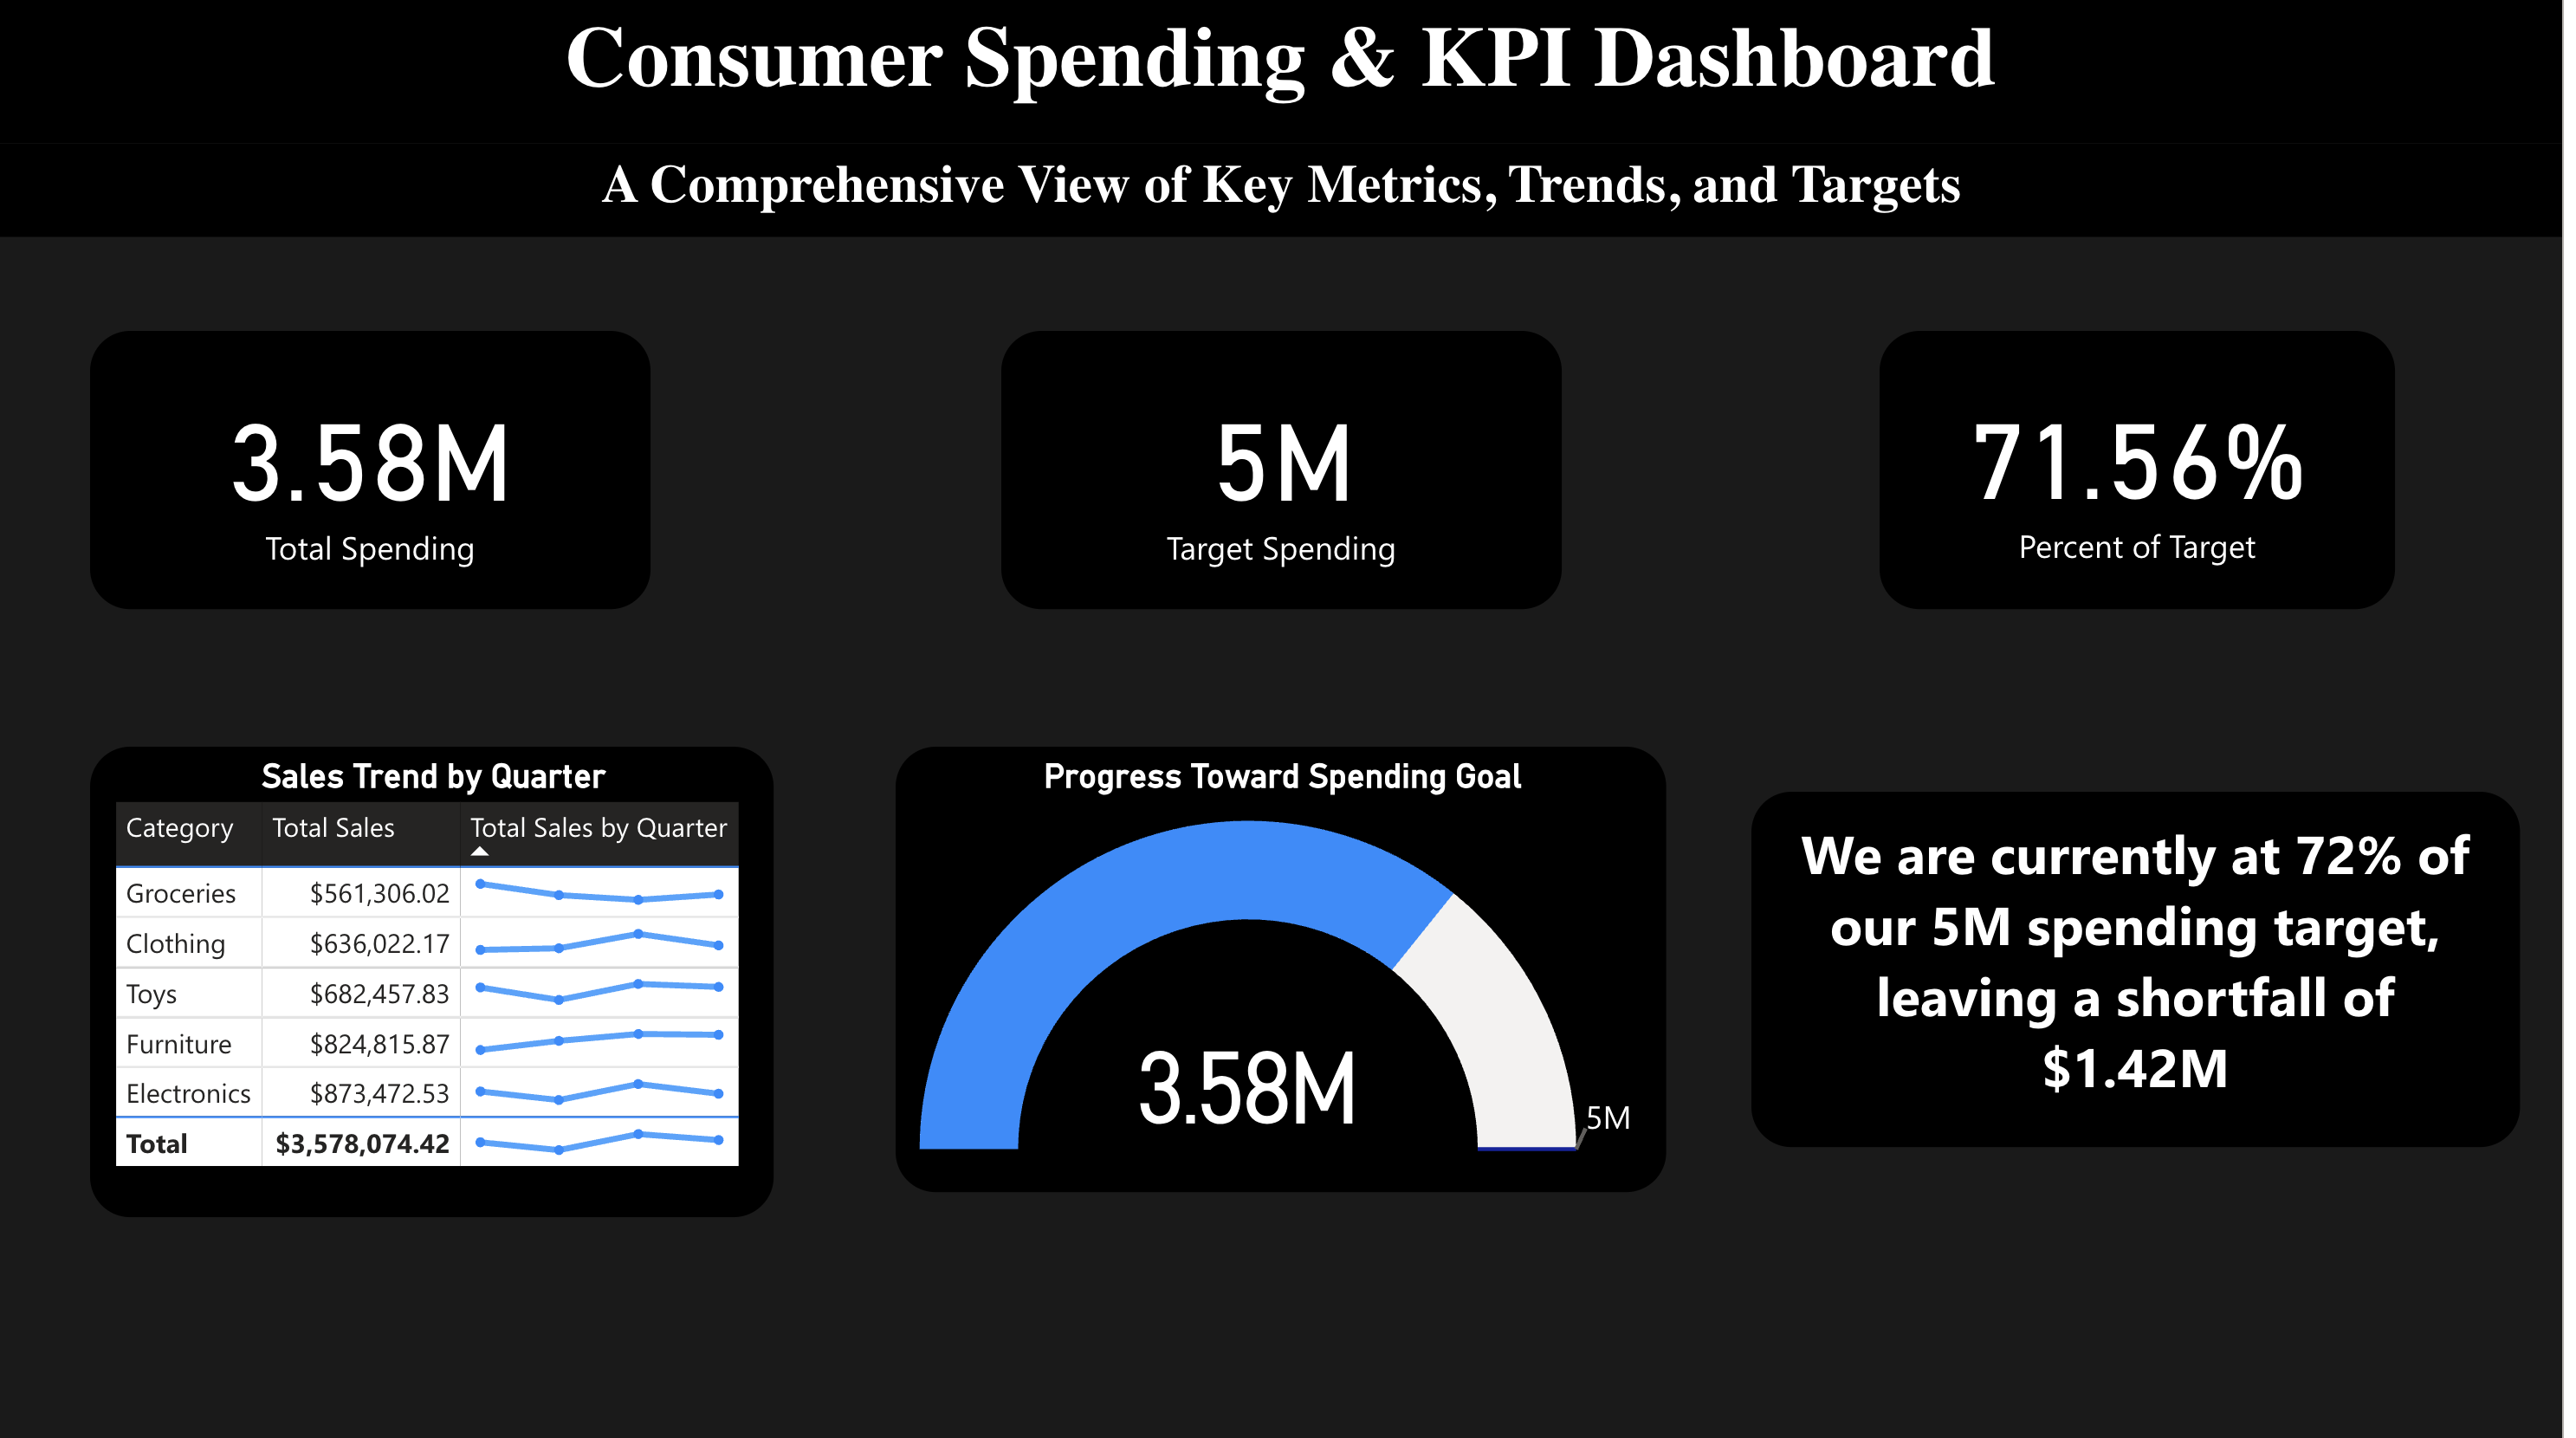

What the dashboard file says about the page in this screenshot:
{"tool":"powerbi","page":{"name":"KPI Dashboard","canvas":[1280,720],"ordinal":4},"visuals":[{"type":"card","fields":{"Values":["Customers.Total Spending"]},"box":[45,166.2,280,138.8],"z":0},{"type":"card","fields":{"Values":["Customers.Target Spending"]},"box":[500,166.2,280,138.8],"z":1000},{"type":"card","fields":{"Values":["Customers.Percent of Target"]},"box":[938.8,166.2,257.5,138.8],"z":2000},{"type":"gauge","title":"Progress Toward Spending Goal","fields":{"Y":["Customers.Total Spending"],"TargetValue":["Customers.Target Spending"]},"box":[447.5,373.8,385,222.5],"z":3000},{"type":"textbox","box":[875,396.2,383.8,177.5],"z":4000},{"type":"tableEx","title":"Sales Trend by Quarter","fields":{"Values":["Products.Category","Sales.Total Sales","SparklineData(Sales.Total Sales_[Sales.Salesdate.Variation.Date Hierarchy.Quarter])"]},"box":[45,373.8,341.2,235],"z":5000},{"type":"textbox","box":[0,0,1280,72.5],"z":6000},{"type":"textbox","box":[0,72.5,1280,46.2],"z":7000}]}

Visuals, with their boxes in screenshot pixels (x1, y1, x2, y2), scaled from the page's 1280x720 canvas onto the 2576x1438 screenshot:
card - Customers.Total Spending: [91,332,654,609]
card - Customers.Target Spending: [1006,332,1570,609]
card - Customers.Percent of Target: [1889,332,2408,609]
"Progress Toward Spending Goal" gauge: [901,747,1675,1191]
textbox: [1761,791,2534,1146]
"Sales Trend by Quarter" tableEx: [91,747,777,1216]
textbox: [0,0,2575,145]
textbox: [0,145,2575,237]
